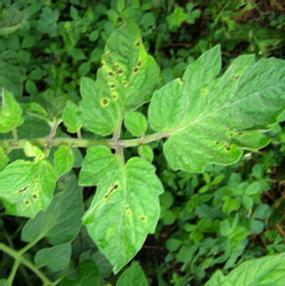Tomato leaf bacterial spot: (142, 43, 285, 175), (74, 143, 170, 278), (74, 10, 171, 138), (1, 152, 57, 220)
